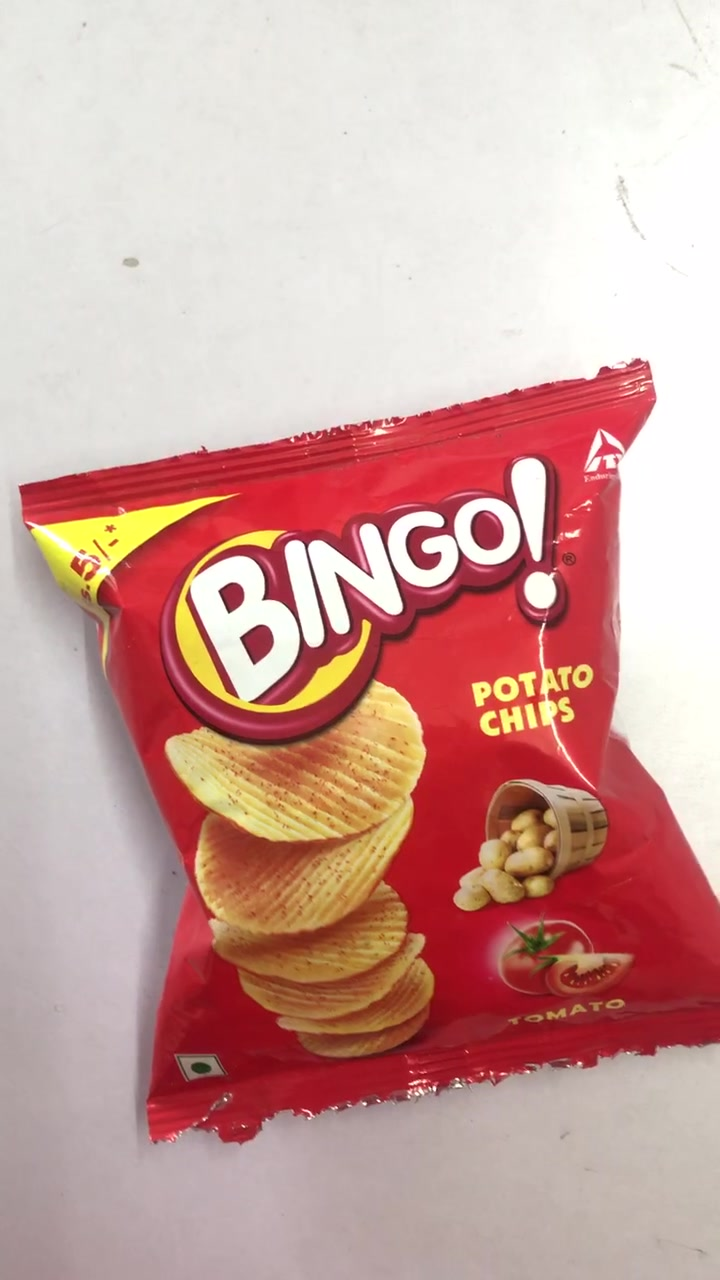Bingo: (28, 392, 720, 1114)
